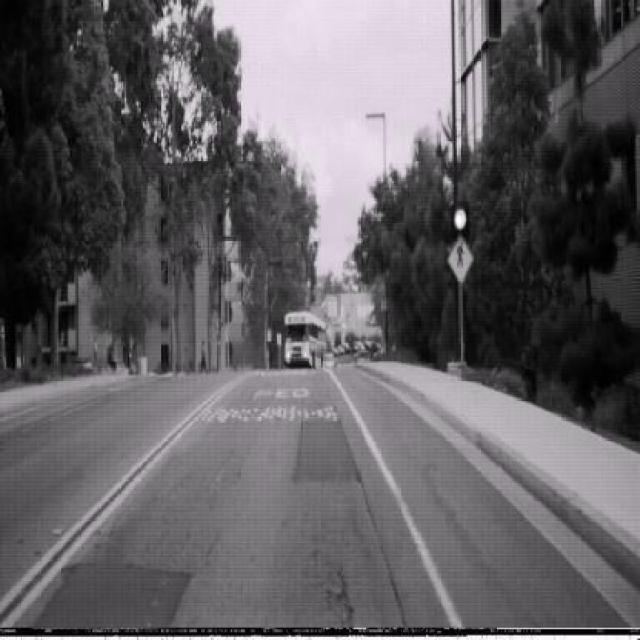pedestrianCrossing: (448, 232, 474, 286)
